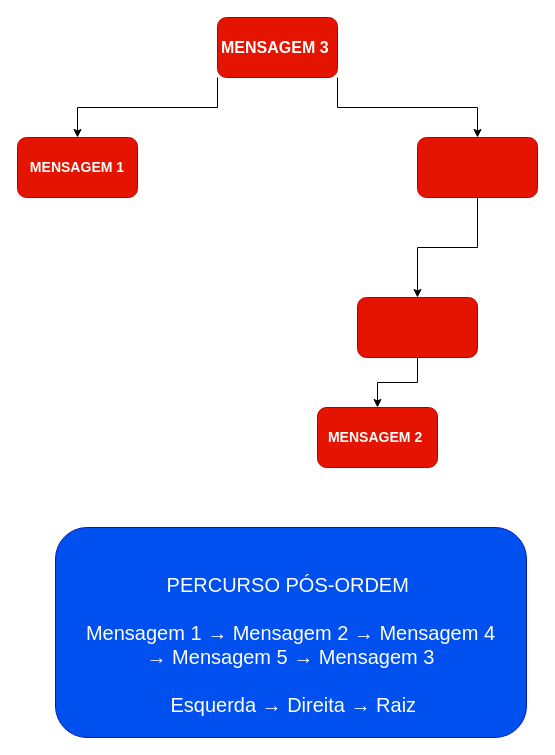
This 555x755 diagram has some shape labels left out. The centre of each missing label's shape, as x and y in pixels:
"MENSAGEM 4" belongs at point (417, 327).
"MENSAGEM 5" belongs at point (477, 167).
